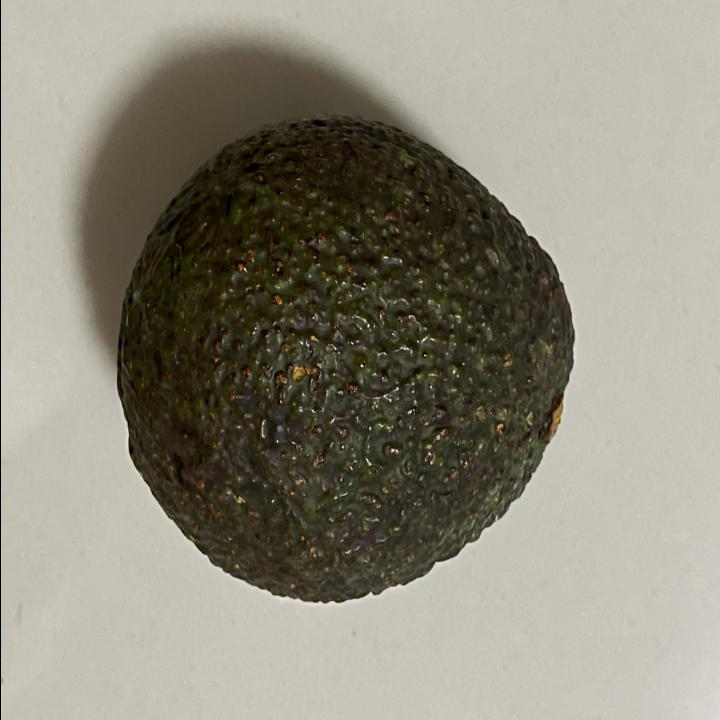Level1: (110, 102, 586, 618)
